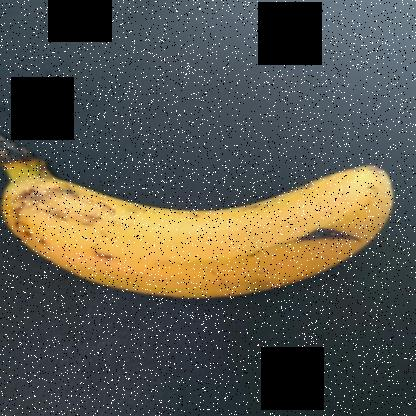ripe: (1, 142, 402, 314)
